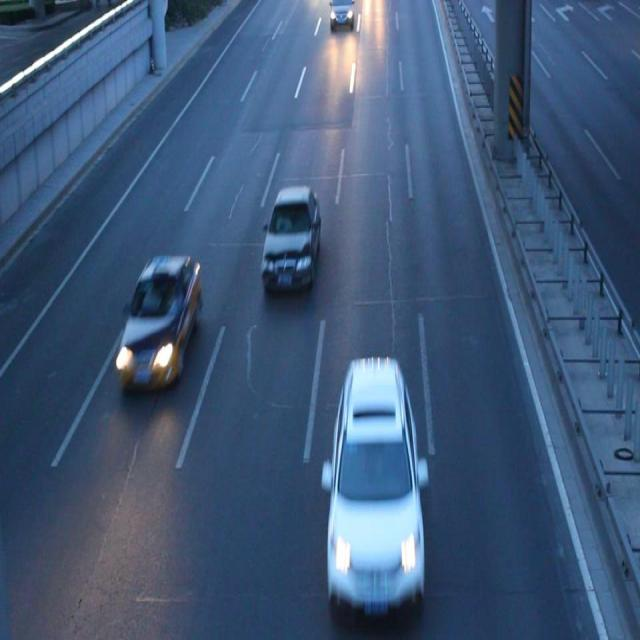car: (320, 359, 427, 602), (114, 252, 201, 389), (258, 184, 320, 289), (328, 1, 354, 30)
